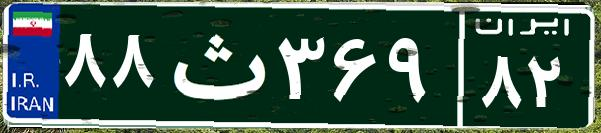2: (525, 38, 570, 115)
3: (273, 28, 330, 110)
6: (330, 28, 385, 110)
8: (57, 26, 110, 107), (475, 38, 525, 113), (110, 28, 158, 105)
9: (385, 28, 445, 110)
ث: (158, 15, 273, 115)
